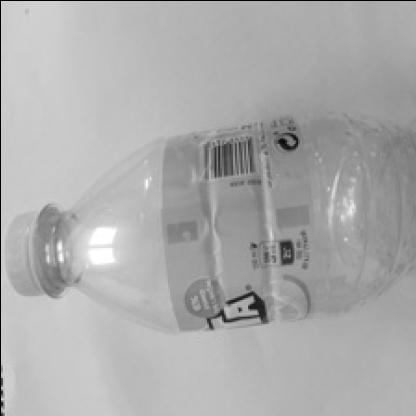plastic_bottles: (0, 120, 416, 336)
